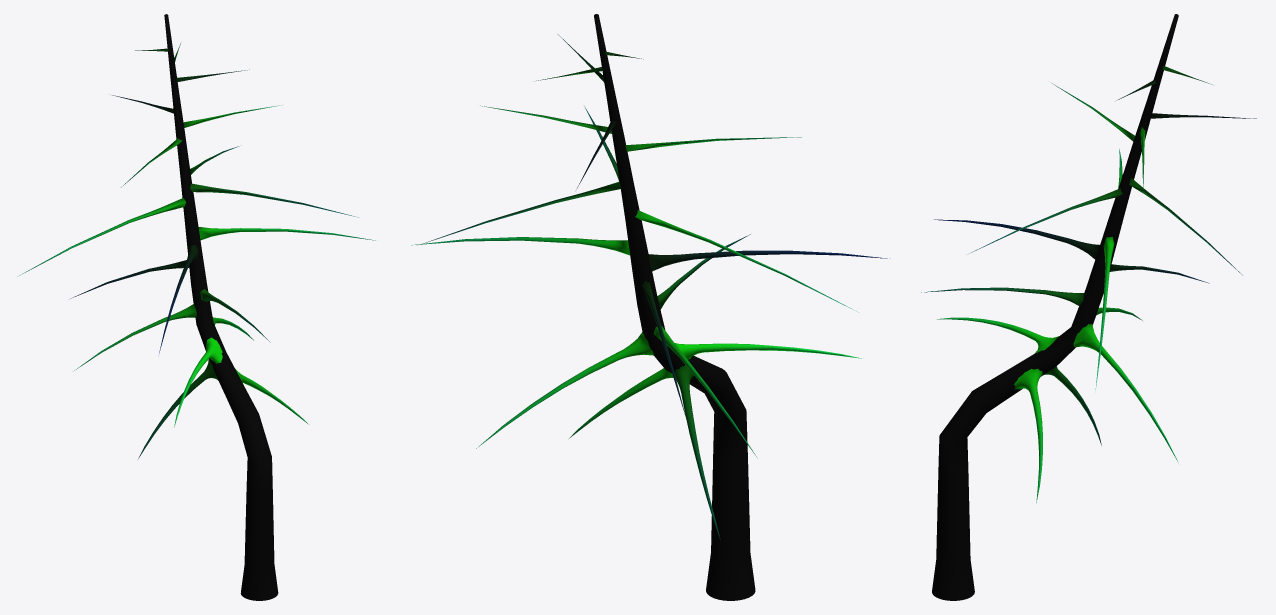
Rendered from M_P7_Tree_15.fbx.
3 renders of one model, left to right at view 1: azimuth 30°, elevation 25°; view 2: azimuth 150°, elevation 25°; view 3: azimuth 270°, elevation 25°, orthographic. The views are drawn at different scales.
Parts seen in each view (by area): view 1: Tree_15; view 2: Tree_15; view 3: Tree_15.
Part boxes in pixels (box(x1,y1,x2,y2)): Tree_15: box(17, 14, 375, 600); Tree_15: box(411, 14, 887, 600); Tree_15: box(921, 14, 1256, 600).
Size of the model in its own units: 262 by 357 by 190.
